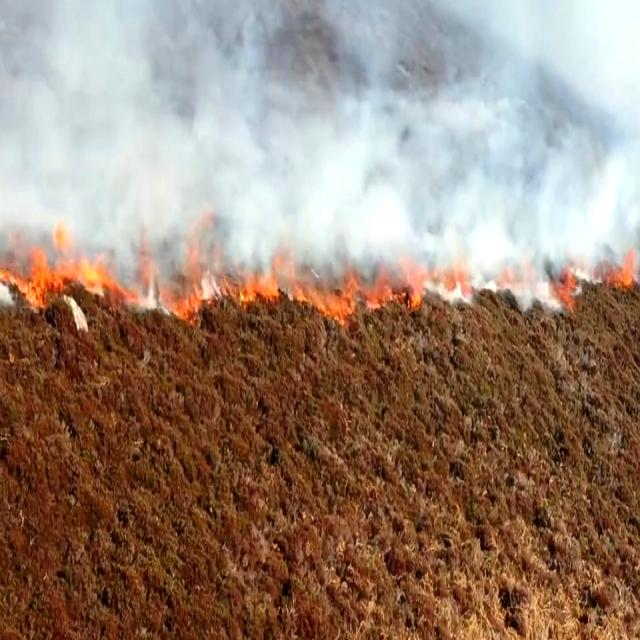fire: (121, 218, 272, 316), (280, 262, 424, 325), (3, 232, 116, 303)
smoke: (0, 0, 640, 213)
